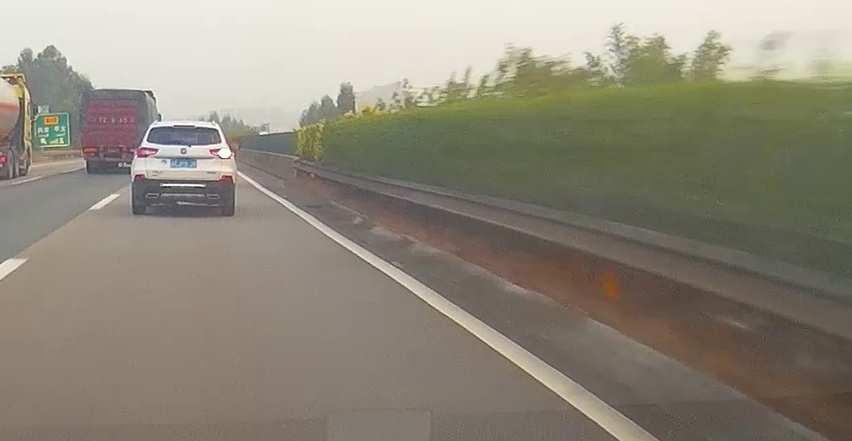L_light: (135, 147, 159, 158)
R_light: (209, 147, 231, 159)
T_light: (173, 124, 195, 128)
day-right: (131, 120, 235, 216)
